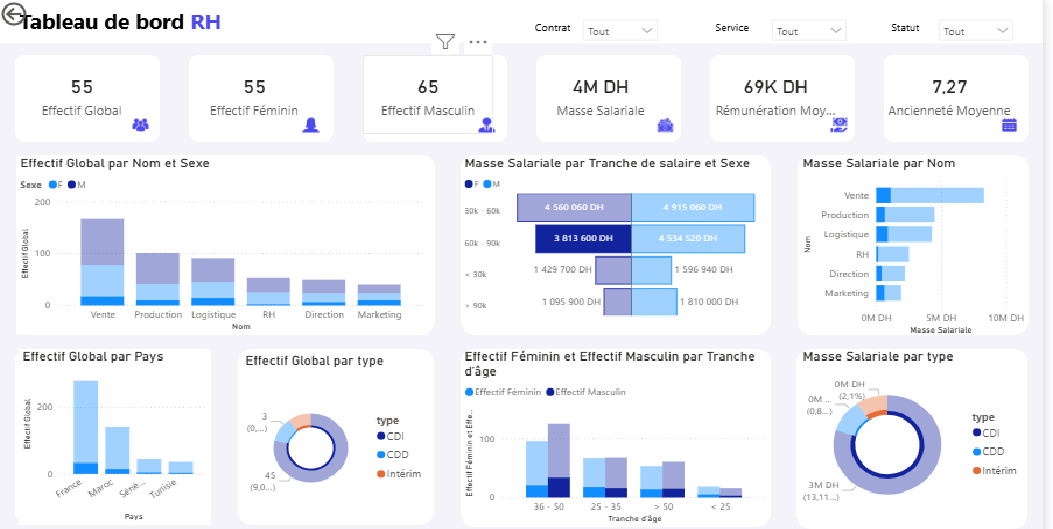

What the dashboard file says about the page in this screenshot:
{"tool":"powerbi","page":{"name":"Dashbord","canvas":[1280,720],"ordinal":0},"visuals":[{"type":"shape","box":[0,0,1280,58.6],"z":0},{"type":"textbox","box":[21.4,5.7,278.6,51.4],"z":1000},{"type":"shape","box":[21.4,73.9,177.1,115.7],"z":2000},{"type":"shape","box":[22.9,207.1,512.9,240],"z":3000},{"type":"shape","box":[567.1,465.7,380,237.1],"z":4000},{"type":"shape","box":[567.1,207.1,380,240],"z":5000},{"type":"shape","box":[979.8,207.6,282.9,240],"z":6000},{"type":"shape","box":[294.3,465.7,240,234.3],"z":7000},{"type":"shape","box":[21.4,465.7,240,234.3],"z":8000},{"type":"shape","box":[978.6,465.7,282.9,240],"z":9000},{"type":"shape","box":[234.3,73.9,177.1,115.7],"z":10000},{"type":"shape","box":[872.9,73.9,177.1,115.7],"z":11000},{"type":"shape","box":[660,73.9,177.1,115.7],"z":12000},{"type":"shape","box":[447.1,73.9,177.1,115.7],"z":13000},{"type":"shape","box":[1085.7,73.9,177.1,115.7],"z":14000},{"type":"textbox","box":[627.1,24.3,80,30],"z":15000},{"type":"textbox","box":[860,24.3,65.7,30],"z":16000},{"type":"textbox","box":[1074.3,24.3,60,30],"z":17000},{"type":"image","box":[368.9,152.3,29.8,29.8],"z":18000},{"type":"image","box":[1224.6,152.3,29.8,29.8],"z":19000},{"type":"image","box":[160.7,152.3,29.8,29.8],"z":20000},{"type":"image","box":[584.3,152.3,29.8,29.8],"z":21000},{"type":"image","box":[803.3,152.3,29.8,29.8],"z":22000},{"type":"image","box":[1015.1,152.3,29.8,29.8],"z":23000},{"type":"card","fields":{"Values":["Mesures.Effectif Global"]},"box":[22.9,74.3,160,105.7],"z":24000},{"type":"card","fields":{"Values":["Mesures.Rémunération Moyenne"]},"box":[872.9,74.3,160,105.7],"z":25000},{"type":"card","fields":{"Values":["Mesures.Masse Salariale"]},"box":[658.6,74.3,160,105.7],"z":26000},{"type":"card","fields":{"Values":["Mesures.Effectif Masculin"]},"box":[447.1,74.3,160,105.7],"z":27000},{"type":"card","fields":{"Values":["Mesures.Effectif Féminin"]},"box":[234.3,74.3,160,105.7],"z":28000},{"type":"card","fields":{"Values":["Mesures.Ancienneté Moyenne"]},"box":[1085.7,74.3,160,105.7],"z":29000},{"type":"columnChart","fields":{"Category":["Service.Nom"],"Y":["Mesures.Effectif Global"],"Series":["Personnel.Sexe"]},"box":[22.7,208.3,504.6,238.1],"z":30000},{"type":"columnChart","fields":{"Category":["Service.Pays"],"Y":["Mesures.Effectif Global"]},"box":[25.5,466.3,235.3,233.9],"z":31000},{"type":"TornadoChart1452517688218","fields":{"Category":["Personnel.Tranche de salaire"],"Series":["Personnel.Sexe"],"Values":["Mesures.Masse Salariale"]},"box":[566.9,208.3,379.8,238.1],"z":32000},{"type":"barChart","fields":{"Category":["Service.Nom"],"Y":["Mesures.Masse Salariale"]},"box":[980.8,208.3,280.6,242.4],"z":33000},{"type":"donutChart","fields":{"Category":["Contrat.type"],"Y":["Mesures.Effectif Global"]},"box":[299.1,472,235.3,233.9],"z":34000},{"type":"clusteredColumnChart","fields":{"Category":["Personnel.Tranche d’âge"],"Y":["Mesures.Effectif Féminin","Mesures.Effectif Masculin"]},"box":[566.9,466.3,379.8,236.7],"z":35000},{"type":"actionButton","box":[0,0,100,40],"z":36000},{"type":"donutChart","fields":{"Category":["Contrat.type"],"Y":["Mesures.Masse Salariale"]},"box":[980.8,466.3,282,236.7],"z":37000},{"type":"slicer","fields":{"Values":["Contrat.type"]},"box":[707.1,0,111.4,58.6],"z":37001},{"type":"slicer","fields":{"Values":["Poste.Titre de poste"]},"box":[1142.9,0,111.4,58.6],"z":37002},{"type":"slicer","fields":{"Values":["Service.Nom"]},"box":[938.6,0,111.4,58.6],"z":37003}]}

Visuals, with their boxes on the page's 1280x720 design canvas (x1, y1, x2, y2). These are canvas units, not pixel positions in the 1053x529 screenshot, which may show the page scaled, cropped or inside an application window:
shape: pyautogui.locateOnScreen(0, 0, 1280, 59)
textbox: pyautogui.locateOnScreen(21, 6, 300, 57)
shape: pyautogui.locateOnScreen(21, 74, 198, 190)
shape: pyautogui.locateOnScreen(23, 207, 536, 447)
shape: pyautogui.locateOnScreen(567, 466, 947, 703)
shape: pyautogui.locateOnScreen(567, 207, 947, 447)
shape: pyautogui.locateOnScreen(980, 208, 1263, 448)
shape: pyautogui.locateOnScreen(294, 466, 534, 700)
shape: pyautogui.locateOnScreen(21, 466, 261, 700)
shape: pyautogui.locateOnScreen(979, 466, 1262, 706)
shape: pyautogui.locateOnScreen(234, 74, 411, 190)
shape: pyautogui.locateOnScreen(873, 74, 1050, 190)
shape: pyautogui.locateOnScreen(660, 74, 837, 190)
shape: pyautogui.locateOnScreen(447, 74, 624, 190)
shape: pyautogui.locateOnScreen(1086, 74, 1263, 190)
textbox: pyautogui.locateOnScreen(627, 24, 707, 54)
textbox: pyautogui.locateOnScreen(860, 24, 926, 54)
textbox: pyautogui.locateOnScreen(1074, 24, 1134, 54)
image: pyautogui.locateOnScreen(369, 152, 399, 182)
image: pyautogui.locateOnScreen(1225, 152, 1254, 182)
image: pyautogui.locateOnScreen(161, 152, 190, 182)
image: pyautogui.locateOnScreen(584, 152, 614, 182)
image: pyautogui.locateOnScreen(803, 152, 833, 182)
image: pyautogui.locateOnScreen(1015, 152, 1045, 182)
card - Mesures.Effectif Global: pyautogui.locateOnScreen(23, 74, 183, 180)
card - Mesures.Rémunération Moyenne: pyautogui.locateOnScreen(873, 74, 1033, 180)
card - Mesures.Masse Salariale: pyautogui.locateOnScreen(659, 74, 819, 180)
card - Mesures.Effectif Masculin: pyautogui.locateOnScreen(447, 74, 607, 180)
card - Mesures.Effectif Féminin: pyautogui.locateOnScreen(234, 74, 394, 180)
card - Mesures.Ancienneté Moyenne: pyautogui.locateOnScreen(1086, 74, 1246, 180)
columnChart - Service.Nom x Mesures.Effectif Global: pyautogui.locateOnScreen(23, 208, 527, 446)
columnChart - Service.Pays x Mesures.Effectif Global: pyautogui.locateOnScreen(26, 466, 261, 700)
TornadoChart1452517688218 - Personnel.Tranche de salaire x Personnel.Sexe: pyautogui.locateOnScreen(567, 208, 947, 446)
barChart - Service.Nom x Mesures.Masse Salariale: pyautogui.locateOnScreen(981, 208, 1261, 451)
donutChart - Contrat.type x Mesures.Effectif Global: pyautogui.locateOnScreen(299, 472, 534, 706)
clusteredColumnChart - Personnel.Tranche d’âge x Mesures.Effectif Féminin: pyautogui.locateOnScreen(567, 466, 947, 703)
actionButton: pyautogui.locateOnScreen(0, 0, 100, 40)
donutChart - Contrat.type x Mesures.Masse Salariale: pyautogui.locateOnScreen(981, 466, 1263, 703)
slicer - Contrat.type: pyautogui.locateOnScreen(707, 0, 818, 59)
slicer - Poste.Titre de poste: pyautogui.locateOnScreen(1143, 0, 1254, 59)
slicer - Service.Nom: pyautogui.locateOnScreen(939, 0, 1050, 59)
